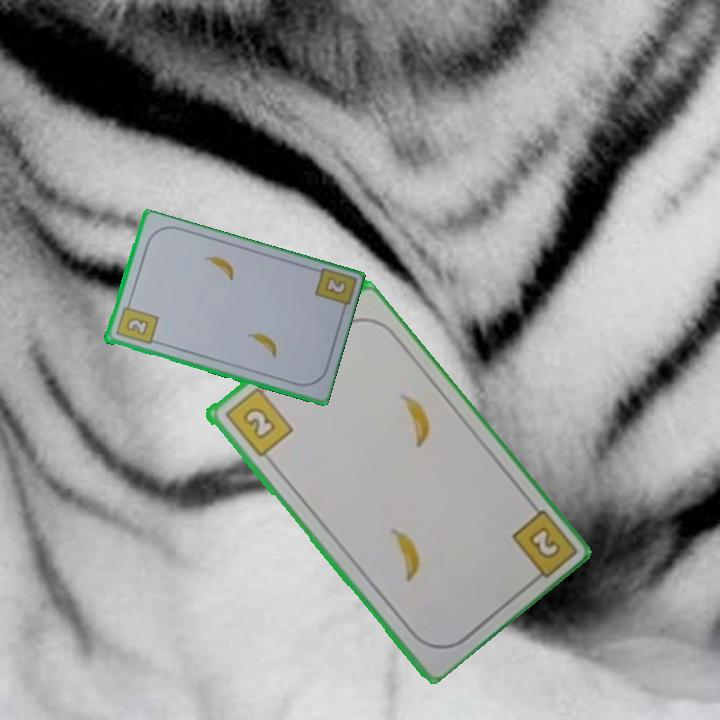2b: (221, 382, 295, 460), (112, 298, 160, 347), (524, 522, 564, 562), (321, 273, 350, 298)
